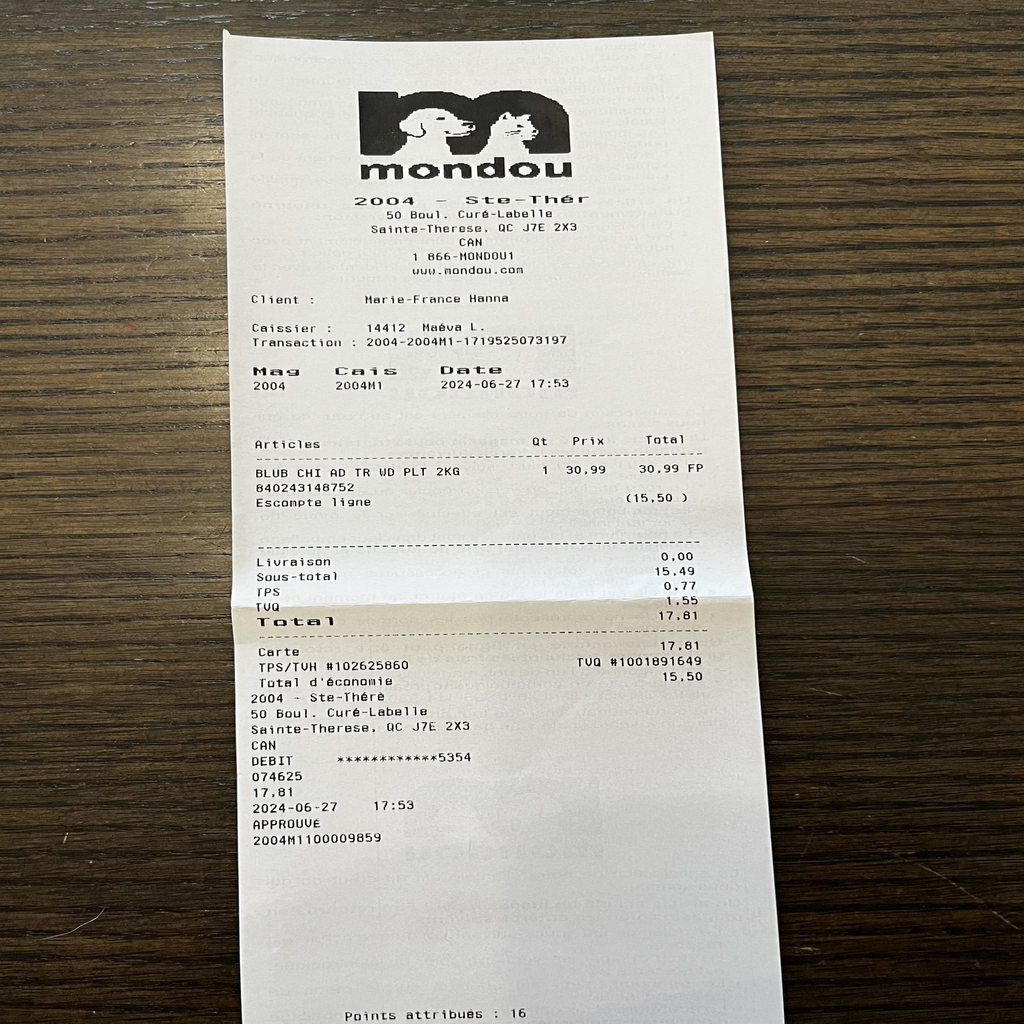recipt: (224, 27, 781, 1022)
